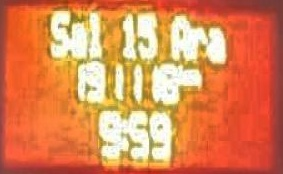1: (121, 9, 134, 60), (112, 57, 123, 106), (130, 64, 144, 102), (75, 62, 86, 104), (148, 62, 159, 104)
5: (137, 11, 157, 57), (129, 109, 146, 162)
8: (160, 59, 176, 105)
9: (149, 109, 171, 160), (98, 109, 119, 160), (86, 60, 105, 104)
X: (169, 9, 189, 64), (47, 6, 68, 56), (205, 21, 228, 62), (87, 7, 103, 61), (69, 20, 86, 59), (189, 24, 205, 60), (119, 114, 128, 152)
